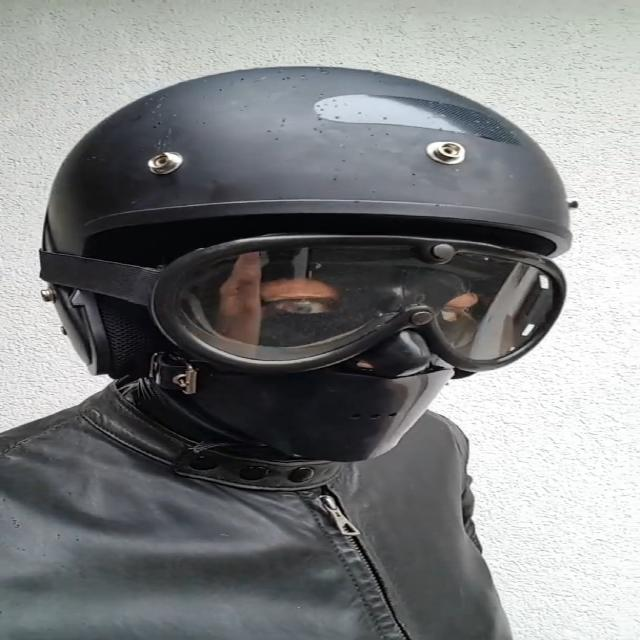Helmet_Wearer: (30, 53, 640, 508)
Jacket_Wearer: (4, 324, 534, 640)
Person: (2, 63, 607, 640)
